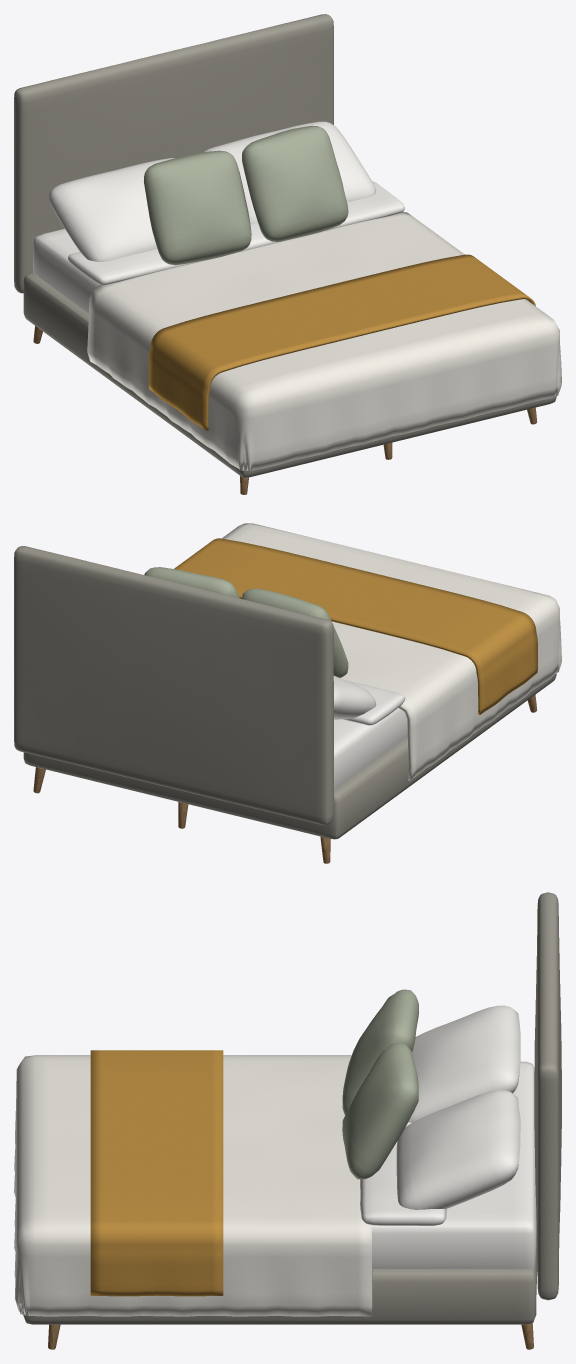
Rendered from cama_tapizada_150.glb.
3 renders of one model, top to bottom at view 1: azimuth 30°, elevation 25°; view 2: azimuth 150°, elevation 25°; view 3: azimuth 270°, elevation 25°, orthographic. The views are drawn at different scales.
Parts seen in each view (by area): view 1: cama_tapizada_150; view 2: cama_tapizada_150; view 3: cama_tapizada_150.
Boxes of the visible parts, box(x1,y1,x2,y2) form: cama_tapizada_150: box(14, 14, 561, 494); cama_tapizada_150: box(14, 523, 561, 863); cama_tapizada_150: box(14, 892, 561, 1349).
Size of the model in its own units: 1.68 by 1.21 by 2.07.
6 materials, 6 textured.
